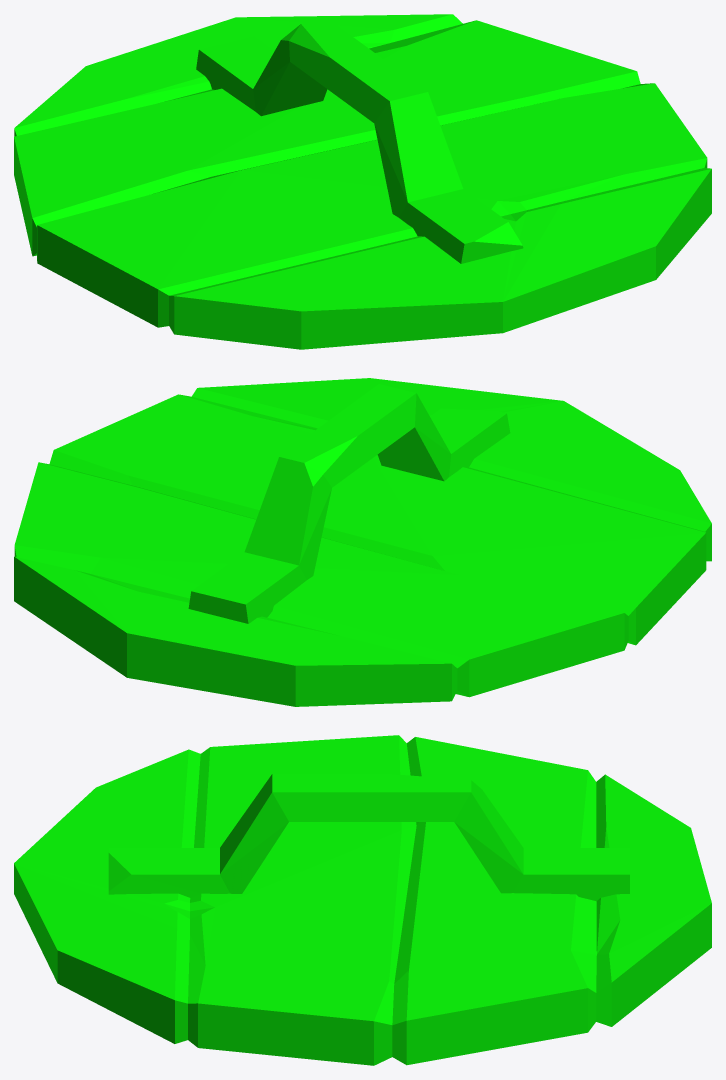
File: SM_Barrel_Wood_B_Lid_Handle_Fantasy.fbx
The picture shows the model from 3 angles, top to bottom: view 1: azimuth 30°, elevation 25°; view 2: azimuth 150°, elevation 25°; view 3: azimuth 270°, elevation 25°; orthographic projection.
Parts seen in each view (by area): view 1: barrel-wood-b-lid-handle-fantasy; view 2: barrel-wood-b-lid-handle-fantasy; view 3: barrel-wood-b-lid-handle-fantasy.
Part boxes in pixels (box(x1,y1,x2,y2)): barrel-wood-b-lid-handle-fantasy: box(14, 14, 711, 349); barrel-wood-b-lid-handle-fantasy: box(14, 378, 711, 706); barrel-wood-b-lid-handle-fantasy: box(14, 735, 711, 1065).
Bounding box in the file's own units: 0.702 × 0.1583 × 0.715.
